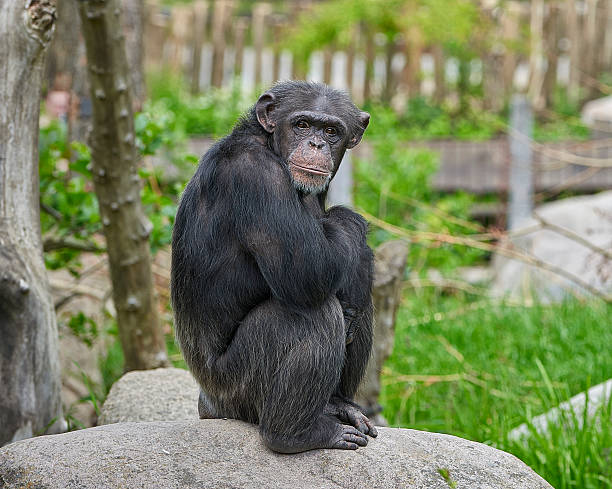chimpanzee: (247, 75, 382, 203)
